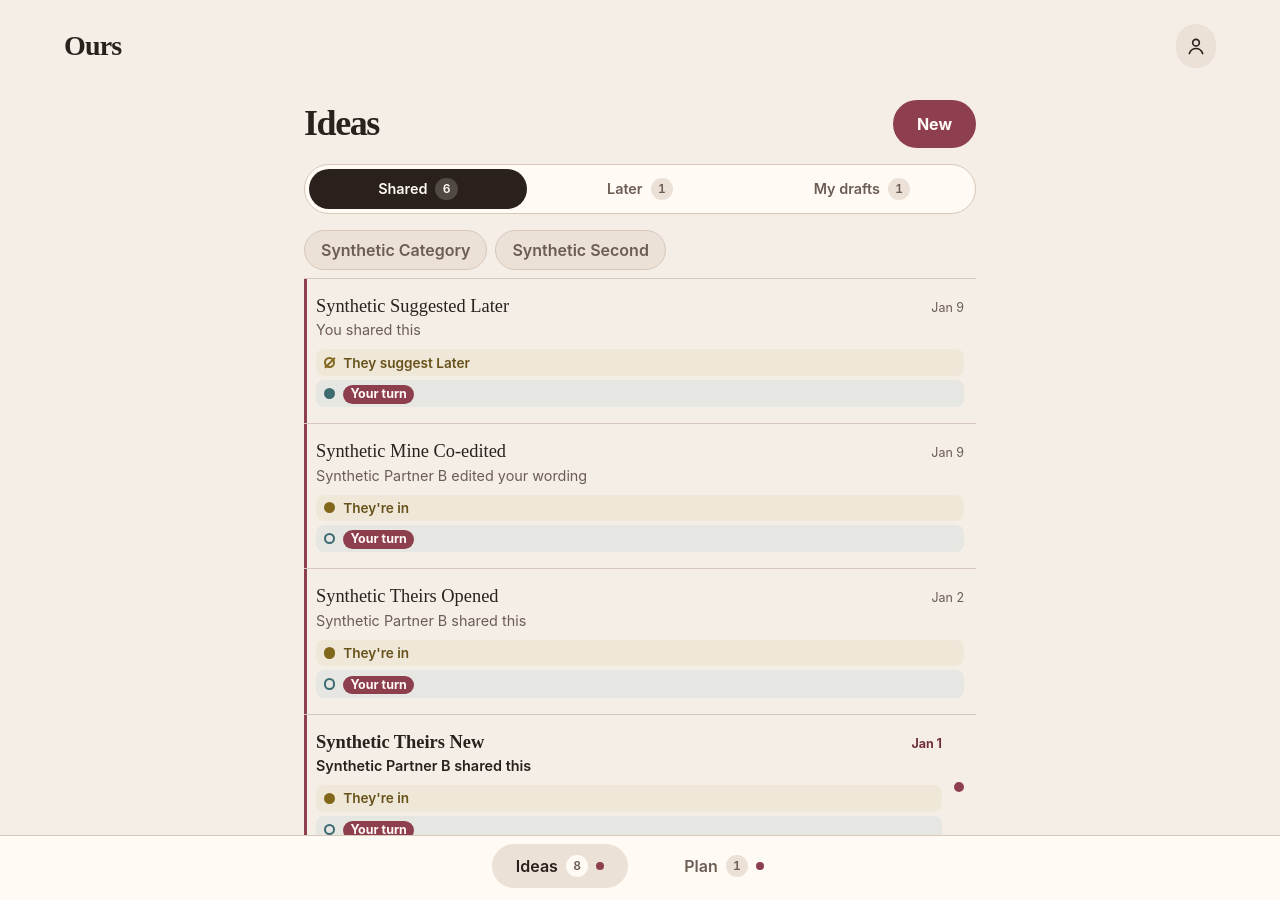
Scenario: Ideas tab › Later lists what either of you parked, with its latest word, and Shared doesn't
Click the link "Later 1" at (640, 189), box [607,178,673,200]
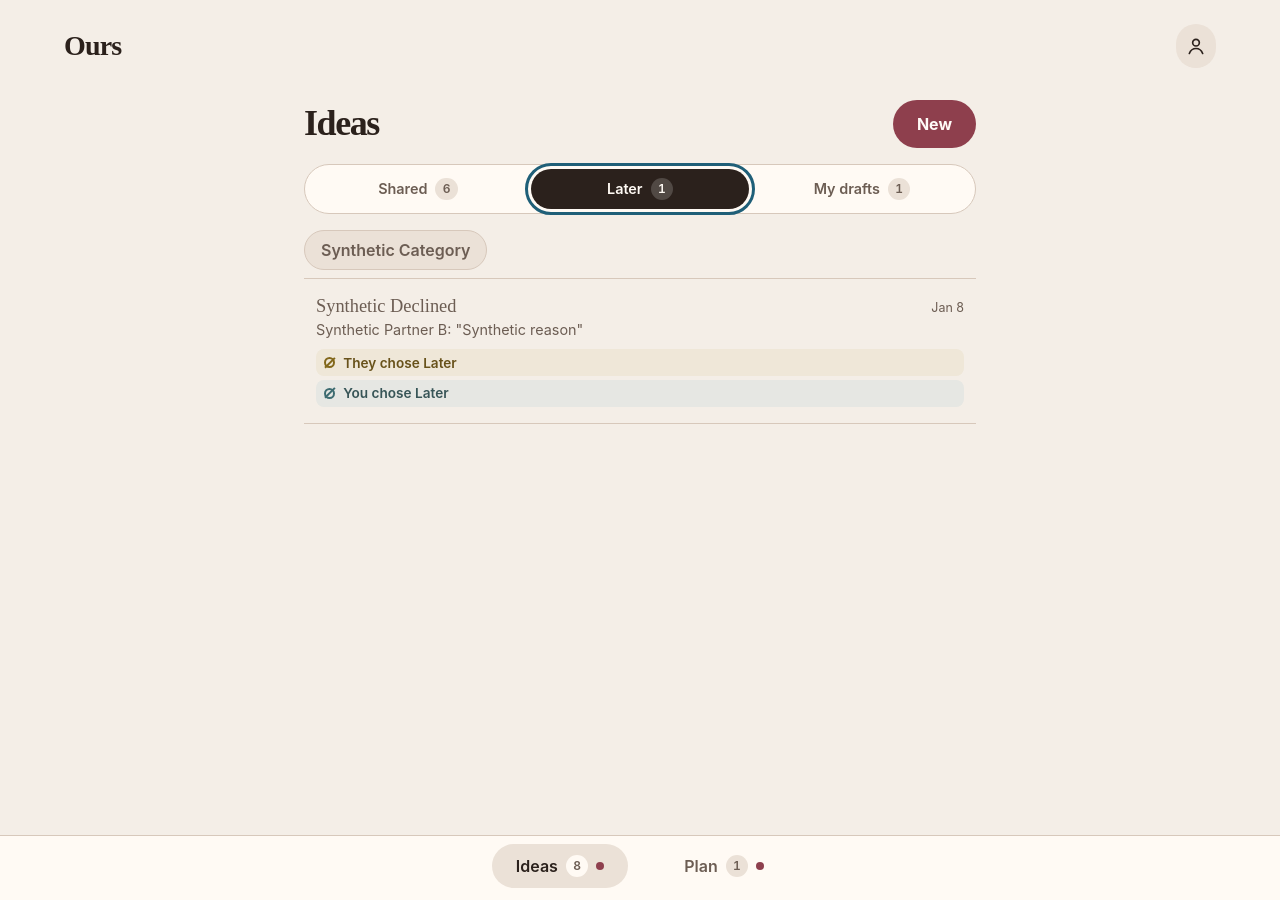
expect the link "Synthetic Declined" shows "Synthetic Partner B: \"Synthetic reason\"": met, box [304,279,976,423]
expect the link "Synthetic Declined" shows "They chose Later": met, box [304,279,976,423]
expect the link "Synthetic Declined" shows "You chose Later": met, box [304,279,976,423]
